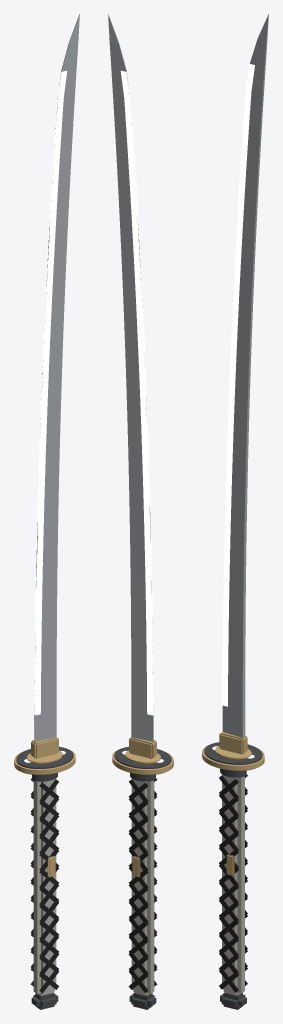
The model's file is katana_4.glb.
The picture shows the model from 3 angles, left to right: view 1: azimuth 30°, elevation 25°; view 2: azimuth 150°, elevation 25°; view 3: azimuth 330°, elevation 25°; orthographic projection.
Visible parts, largest first — view 1: katana_4_steel, katana_4_glow, katana_4_skin, katana_4_wrap, katana_4_brass, katana_4_dark_steel; view 2: katana_4_steel, katana_4_glow, katana_4_skin, katana_4_wrap, katana_4_brass, katana_4_dark_steel; view 3: katana_4_steel, katana_4_glow, katana_4_skin, katana_4_wrap, katana_4_brass, katana_4_dark_steel.
Part boxes in pixels (x1,y1,x2,y2): katana_4_steel: (34,14,79,741); katana_4_glow: (24,70,67,762); katana_4_skin: (33,778,56,995); katana_4_wrap: (30,778,59,992); katana_4_brass: (14,737,75,877); katana_4_dark_steel: (16,746,73,1009); katana_4_steel: (108,14,153,741); katana_4_glow: (120,70,163,762); katana_4_skin: (131,778,154,995); katana_4_wrap: (128,778,157,992); katana_4_brass: (112,737,173,877); katana_4_dark_steel: (114,746,171,1009); katana_4_steel: (222,14,268,737); katana_4_glow: (212,64,254,758); katana_4_skin: (222,774,244,995); katana_4_wrap: (219,774,247,992); katana_4_brass: (202,732,264,875); katana_4_dark_steel: (204,742,262,1009).
Bounding box in the file's own units: 0.0987 × 1.48 × 0.0722.
